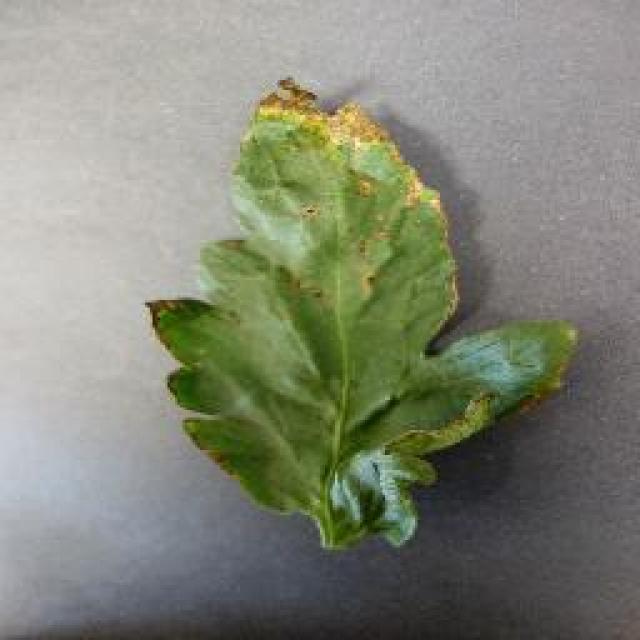Tomato___Bacterial_spot: (139, 78, 579, 555)
